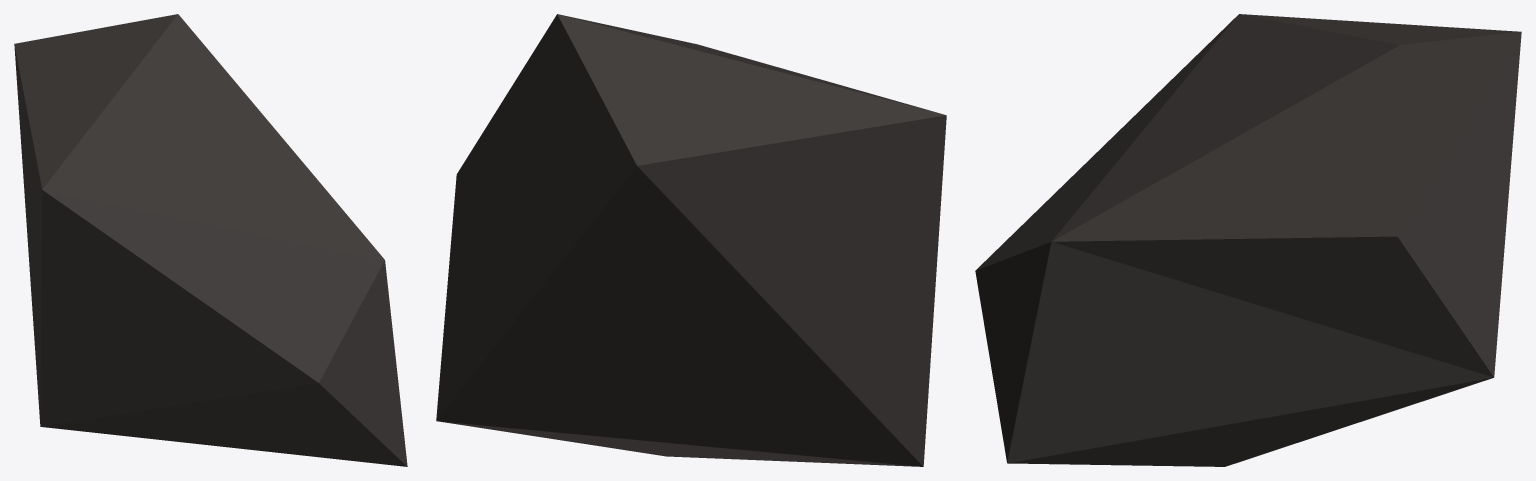
The model's file is Rock_Single_2_LOD_1.fbx.
The picture shows the model from 3 angles, left to right: view 1: azimuth 30°, elevation 25°; view 2: azimuth 150°, elevation 25°; view 3: azimuth 270°, elevation 25°; orthographic projection. The views are drawn at different scales.
Visible parts, largest first — view 1: Group47233; view 2: Group47233; view 3: Group47233.
Part boxes in pixels (x1,y1,x2,y2): Group47233: (14,14,407,466); Group47233: (436,14,946,466); Group47233: (975,14,1521,466).
Bounding box in the file's own units: 0.5921 × 0.7518 × 0.8817.
